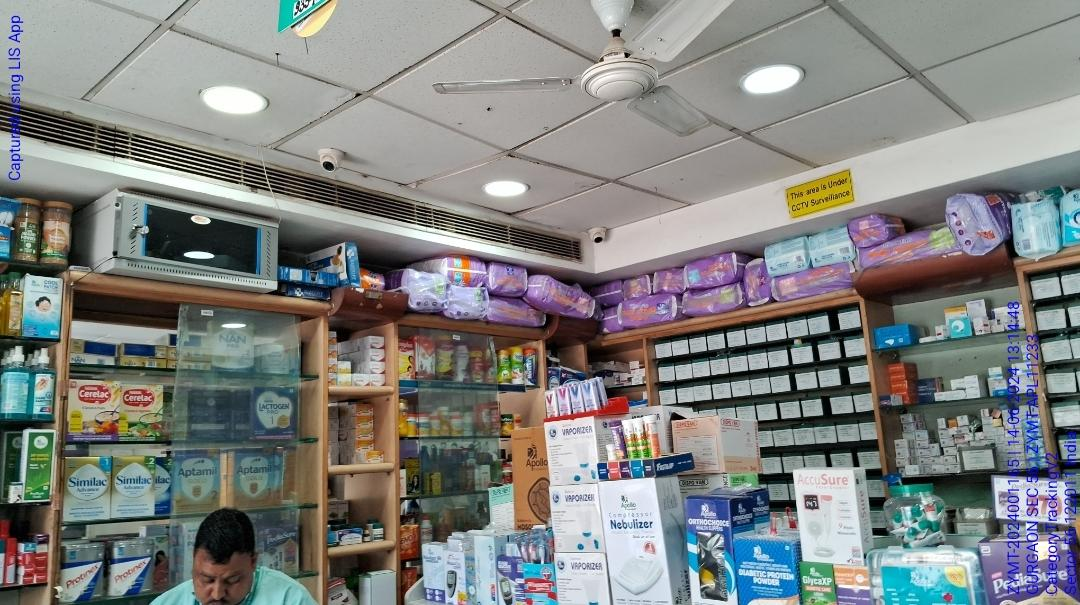PROTINEX_ORIGINAL_400_G_JAR: (61, 543, 104, 601), (110, 540, 154, 595)
